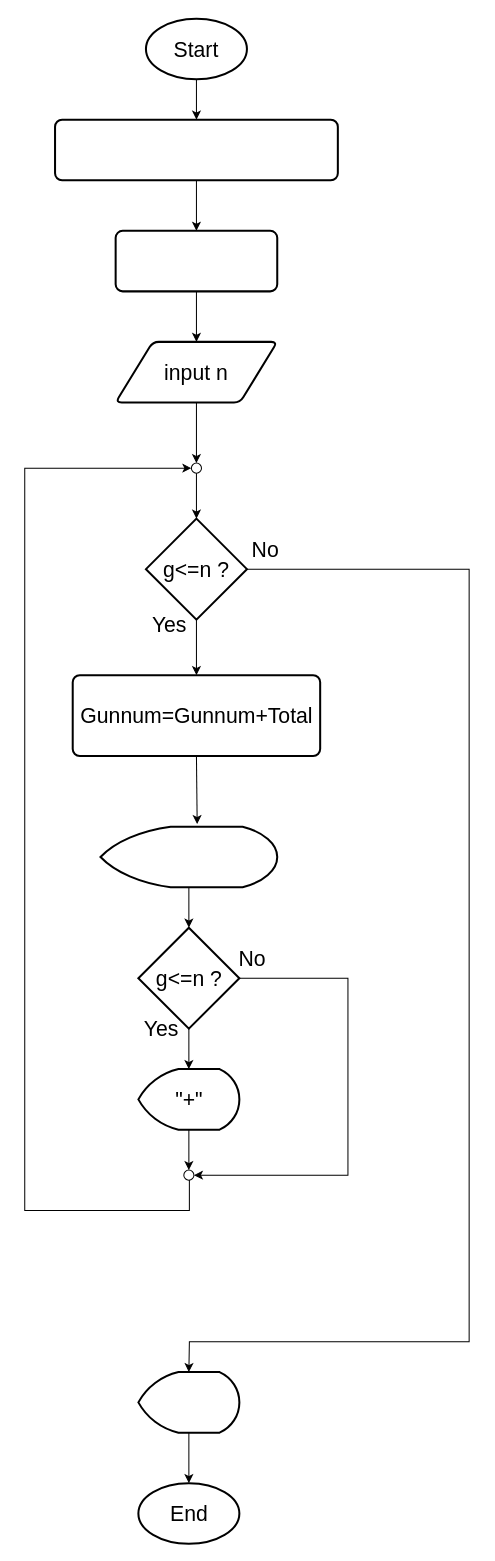
Some shapes in this 495 by 1561 pixel diagram are drawn without their labels. The shapes that lost their labels are listed below. From the top down, each one's centre as x and y in pixels, then its label:
At (196,149): "int : g,n,Gunnum,Total".
At (196,260): "Gunnum= 0 Total = 9".
At (188,856): "Total".
At (188,1402): "Gunnum".
